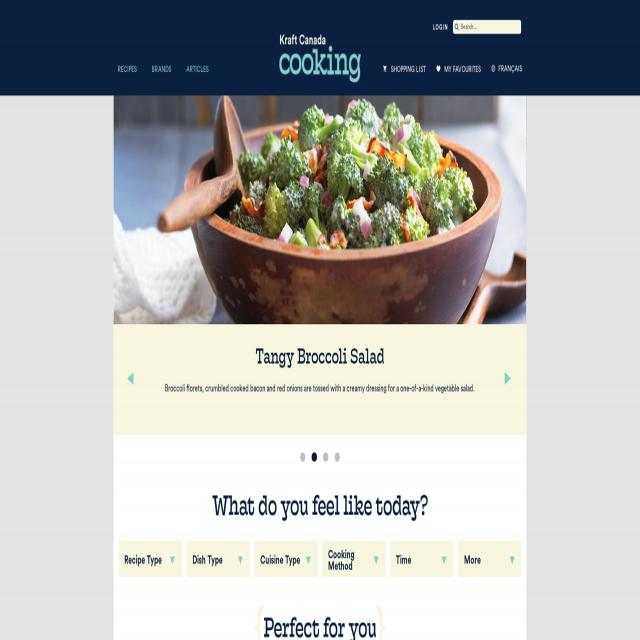button: (279, 34, 361, 82), (430, 20, 450, 36), (170, 556, 175, 564), (238, 556, 243, 564), (382, 66, 388, 72), (306, 556, 310, 564), (374, 556, 378, 564), (442, 556, 446, 564), (510, 556, 514, 564), (436, 66, 441, 72), (455, 24, 459, 31), (491, 65, 495, 72)
field: (461, 20, 521, 34)
